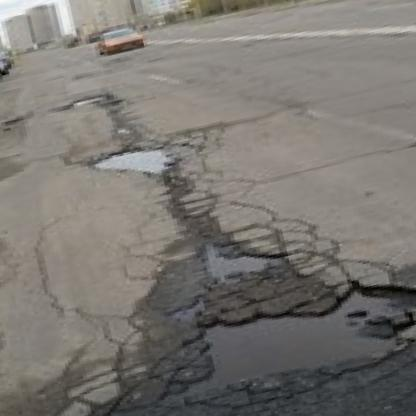pothole: (178, 266, 416, 404), (203, 232, 295, 289), (90, 138, 174, 191), (73, 92, 114, 106)
